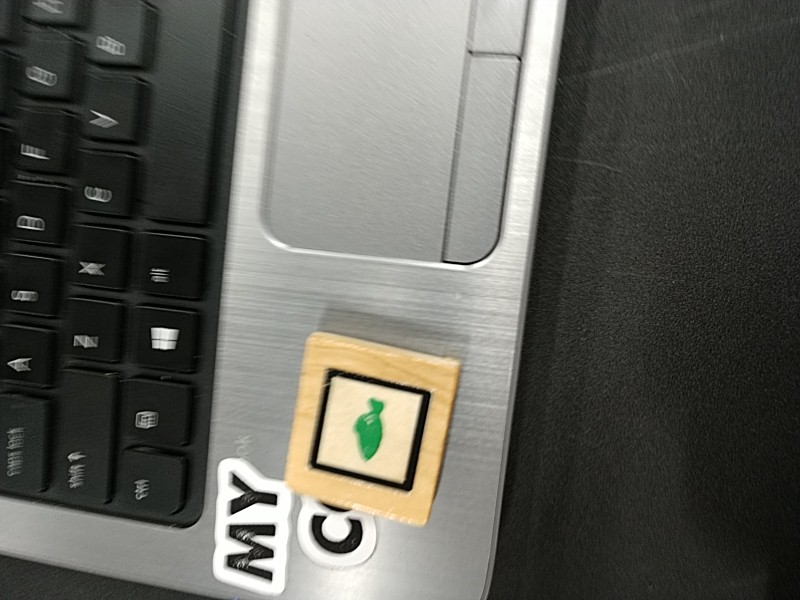Fish Tile: (305, 367, 432, 494)
